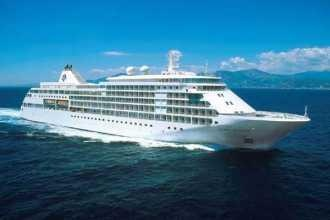youlun: (11, 56, 313, 147)
